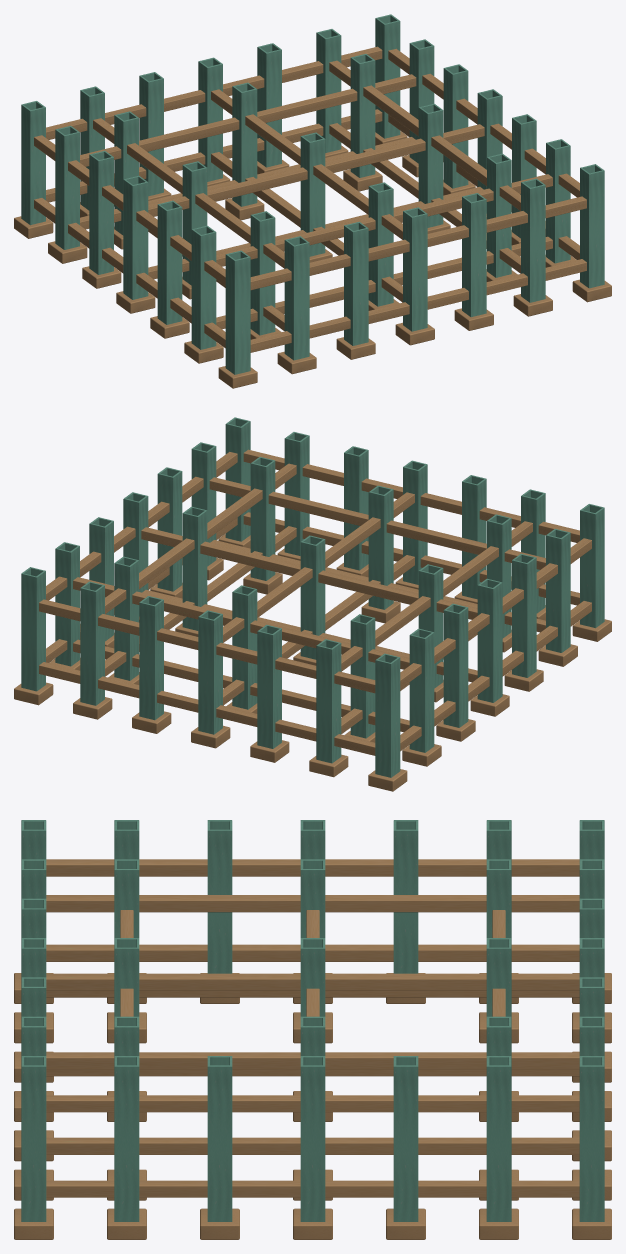
The picture shows the model from 3 angles, top to bottom: view 1: azimuth 30°, elevation 25°; view 2: azimuth 150°, elevation 25°; view 3: azimuth 270°, elevation 25°; orthographic projection. The views are drawn at different scales.
Parts seen in each view (by area): view 1: Tier 0 internal tie 0-0.56-0-0.75, Tier 0 internal tie 0-0-0-0.75, Tier 0 tie 0-0-0.25, Tier 0 tie 0-0-0.75, Tier 0 upright 0, Tier 0 upright 1, Tier 0 upright 3, Tier 0 upright 2, Tier 0 upright 6, Tier 0 upright 4, Tier 0 upright 5, Tier 0 upright 22 (+55 smaller); view 2: Tier 0 internal tie 0--0.56-0-0.75, Tier 0 internal tie 0-0-0-0.75, Tier 0 tie 2-0-0.25, Tier 0 tie 2-0-0.75, Tier 0 upright 18, Tier 0 upright 17, Tier 0 upright 15, Tier 0 upright 16, Tier 0 upright 12, Tier 0 upright 14, Tier 0 upright 13, Tier 0 upright 19 (+55 smaller); view 3: Tier 0 internal tie 1--0.56-0-0.75, Tier 0 internal tie 1-0-0-0.75, Tier 0 internal tie 1-0.56-0-0.75, Tier 0 tie 3-0-0.75, Tier 0 internal tie 1-0.56-0-0.25, Tier 0 tie 1-0-0.25, Tier 0 tie 1-0-0.75, Tier 0 tie 3-0-0.25, Tier 0 upright 10, Tier 0 upright 11, Tier 0 upright 12, Tier 0 upright 6 (+41 smaller).
Part boxes in pixels (bbox=[...]): Tier 0 internal tie 0-0.56-0-0.75: bbox=[80, 74, 416, 166]; Tier 0 internal tie 0-0-0-0.75: bbox=[148, 124, 484, 216]; Tier 0 tie 0-0-0.25: bbox=[250, 259, 586, 352]; Tier 0 tie 0-0-0.75: bbox=[250, 196, 586, 290]; Tier 0 upright 0: bbox=[225, 250, 250, 374]; Tier 0 upright 1: bbox=[284, 236, 309, 360]; Tier 0 upright 3: bbox=[403, 207, 427, 331]; Tier 0 upright 2: bbox=[344, 221, 368, 345]; Tier 0 upright 6: bbox=[580, 164, 604, 288]; Tier 0 upright 4: bbox=[462, 193, 486, 317]; Tier 0 upright 5: bbox=[521, 178, 545, 302]; Tier 0 upright 22: bbox=[157, 200, 182, 324]; Tier 0 internal tie 0--0.56-0-0.75: bbox=[209, 477, 545, 569]; Tier 0 internal tie 0-0-0-0.75: bbox=[141, 527, 477, 619]; Tier 0 tie 2-0-0.25: bbox=[39, 662, 375, 755]; Tier 0 tie 2-0-0.75: bbox=[39, 599, 375, 693]; Tier 0 upright 18: bbox=[375, 653, 400, 777]; Tier 0 upright 17: bbox=[316, 639, 341, 763]; Tier 0 upright 15: bbox=[198, 610, 222, 734]; Tier 0 upright 16: bbox=[257, 624, 281, 748]; Tier 0 upright 12: bbox=[21, 567, 45, 691]; Tier 0 upright 14: bbox=[139, 596, 163, 720]; Tier 0 upright 13: bbox=[80, 581, 104, 705]; Tier 0 upright 19: bbox=[409, 628, 434, 752]; Tier 0 internal tie 1--0.56-0-0.75: bbox=[46, 895, 579, 912]; Tier 0 internal tie 1-0-0-0.75: bbox=[46, 973, 579, 990]; Tier 0 internal tie 1-0.56-0-0.75: bbox=[46, 1052, 579, 1069]; Tier 0 tie 3-0-0.75: bbox=[46, 859, 579, 876]; Tier 0 internal tie 1-0.56-0-0.25: bbox=[46, 1137, 579, 1154]; Tier 0 tie 1-0-0.25: bbox=[46, 1180, 579, 1197]; Tier 0 tie 1-0-0.75: bbox=[46, 1095, 579, 1112]; Tier 0 tie 3-0-0.25: bbox=[46, 944, 579, 961]; Tier 0 upright 10: bbox=[393, 1056, 418, 1221]; Tier 0 upright 11: bbox=[486, 1056, 511, 1221]; Tier 0 upright 12: bbox=[579, 1056, 604, 1221]; Tier 0 upright 6: bbox=[21, 1056, 46, 1221].
Size of the model in its own units: 1.8 by 0.5669 by 1.8.
2 materials, 2 textured.
